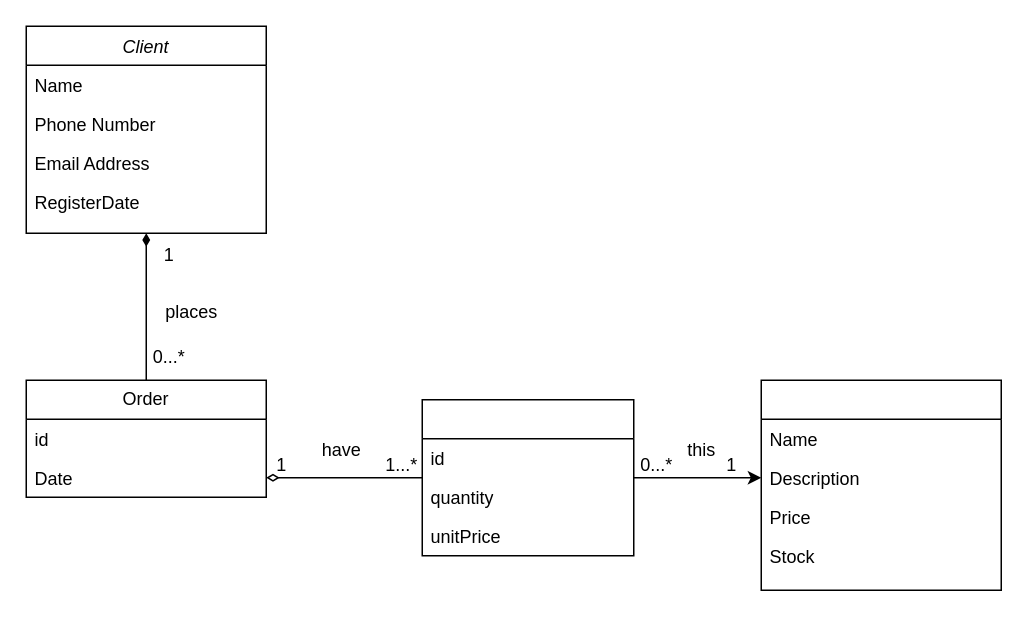
Image size: 1028x617. Some labels were removed from this diagram. Here are the shapes that lost their labels. From the top down, the box of each, then its label:
(421, 398, 634, 556): OrderDetails
(760, 379, 1001, 590): Product
